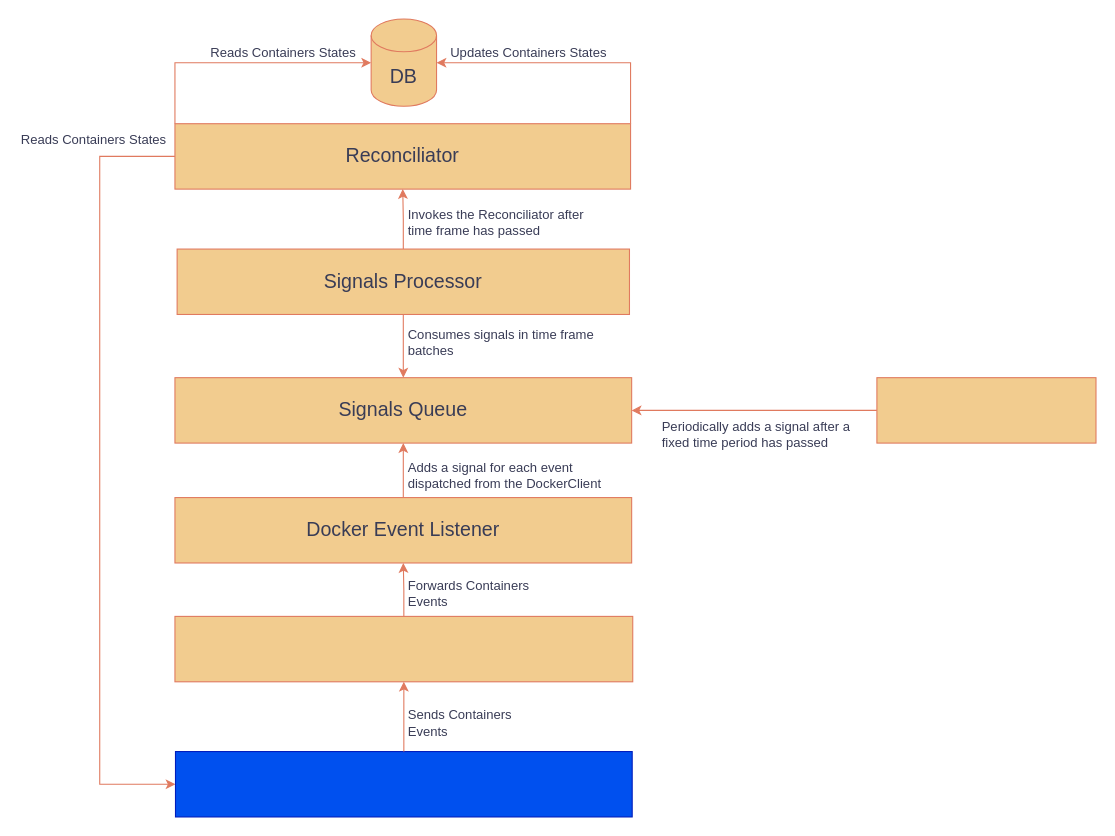
Image size: 1115x836. Some labels were removed from this diagram. The shapes that lost their labels are listed below. From the top down, each one's box as (x1, y1, x2, y2) in pixels, then its label:
(876, 377, 1096, 443): Periodic Reconciliator
(174, 615, 633, 682): Docker.Dotnet.DockerClient
(174, 750, 632, 817): Docker
